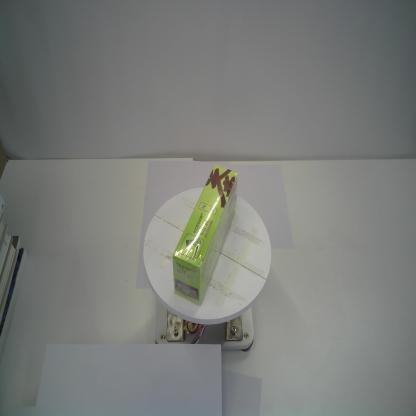Instant Drink: (171, 162, 239, 307)
